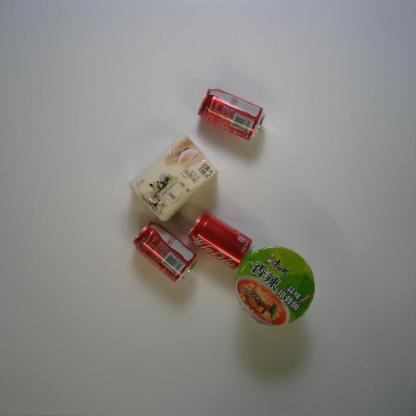Drink: (131, 220, 199, 284), (187, 211, 255, 271), (196, 87, 267, 141)
Instant Noodles: (234, 244, 316, 326)
Tissue: (128, 132, 217, 222)
